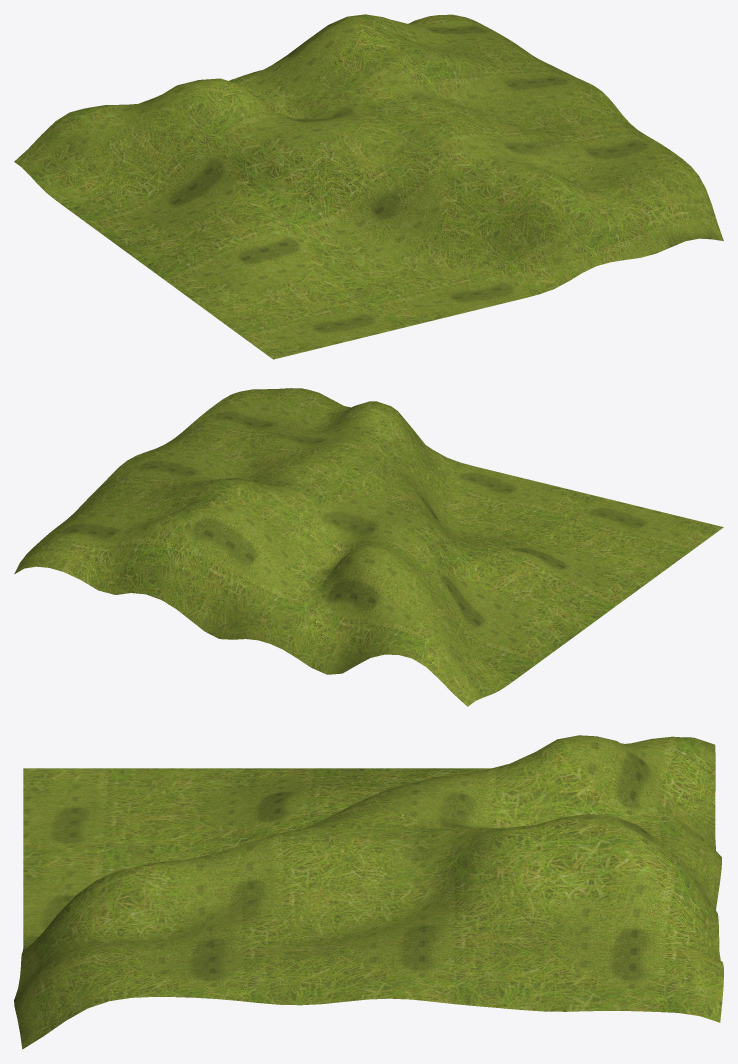
File: TerrenoMonte.dae
3 renders of one model, top to bottom at view 1: azimuth 30°, elevation 25°; view 2: azimuth 150°, elevation 25°; view 3: azimuth 270°, elevation 25°, orthographic. The views are drawn at different scales.
Parts seen in each view (by area): view 1: Plane; view 2: Plane; view 3: Plane.
Part boxes in pixels (<box>): Plane: <box>14,14,723,359</box>; Plane: <box>14,388,723,706</box>; Plane: <box>14,735,723,1049</box>.
Size of the model in its own units: 11.88 by 11.76 by 2.57.
1 material, 1 textured.
